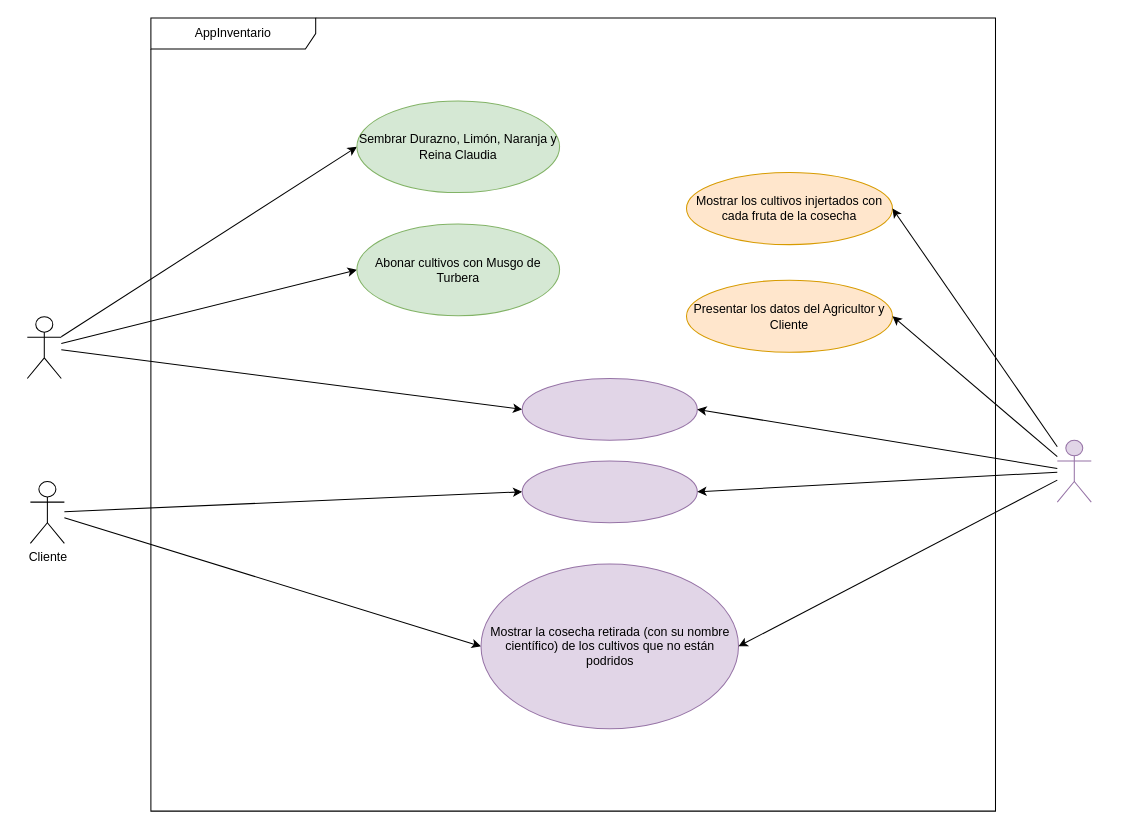
Image size: 1132x829. Some labels were removed from this diagram. Each missing label, with the centre of its shape:
"Agricultor" belongs at (x=43, y=347).
"App Inventario" belongs at (x=1073, y=470).
"Mostrar la cosecha con su estado de madurez" belongs at (x=609, y=491).
"Registar cada cultivo con su nombre común y científico" belongs at (x=609, y=408).
